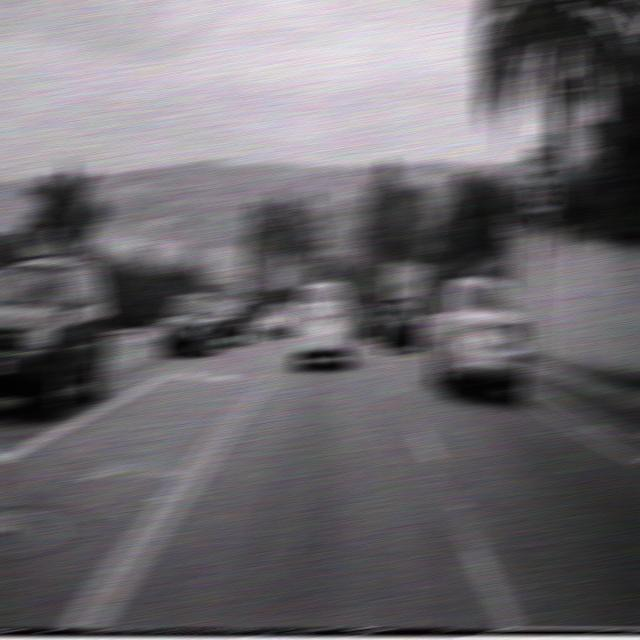speedLimit35: (521, 145, 560, 214)
